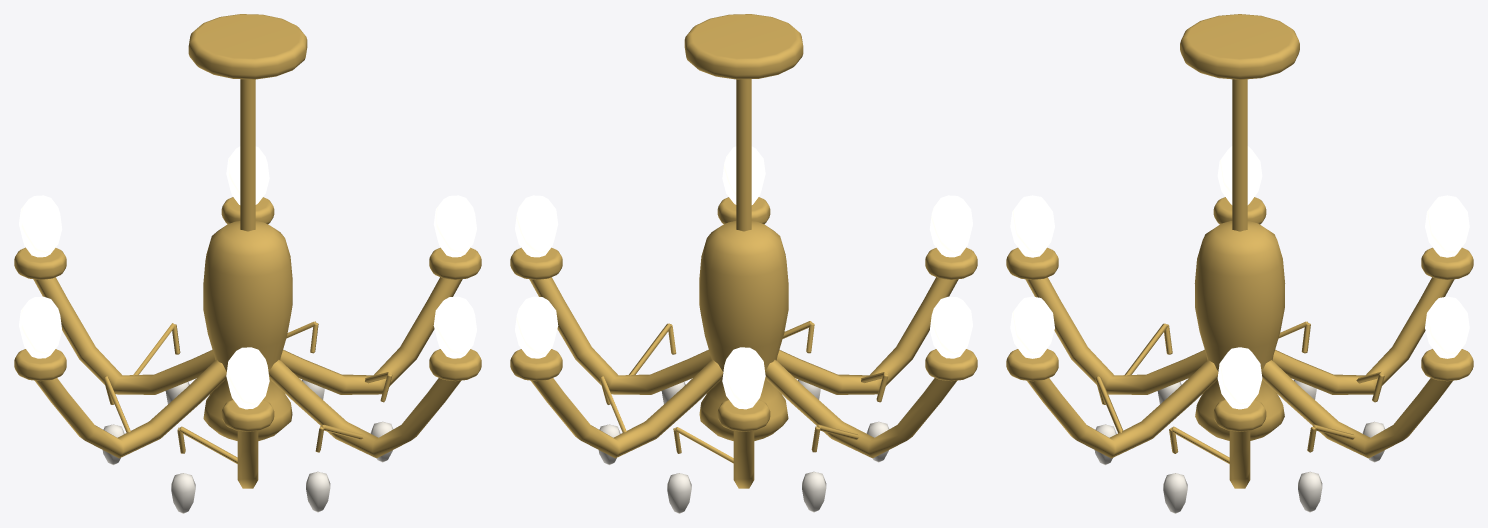
File: crystal_chandelier.glb
3 views of the same model, side by side, from view 1: azimuth 30°, elevation 25°; view 2: azimuth 150°, elevation 25°; view 3: azimuth 270°, elevation 25° (orthographic).
Visible parts, largest first — view 1: crystal_chandelier_mesh; view 2: crystal_chandelier_mesh; view 3: crystal_chandelier_mesh.
Boxes of the visible parts, x1,y1,x2,y2 form: crystal_chandelier_mesh: (14, 14, 481, 513); crystal_chandelier_mesh: (510, 14, 977, 513); crystal_chandelier_mesh: (1006, 14, 1473, 513).
Size of the model in its own units: 0.71 by 0.63 by 0.6243.
